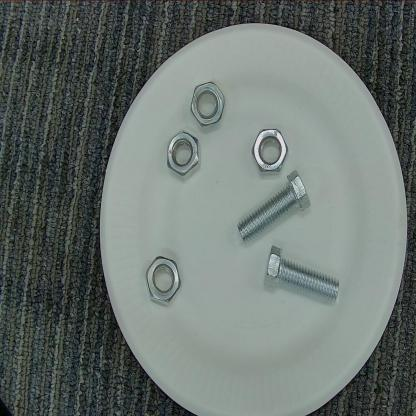FOD: (231, 170, 320, 242), (262, 245, 344, 306), (141, 252, 184, 314), (188, 78, 228, 132), (165, 129, 203, 181), (252, 124, 289, 176)
